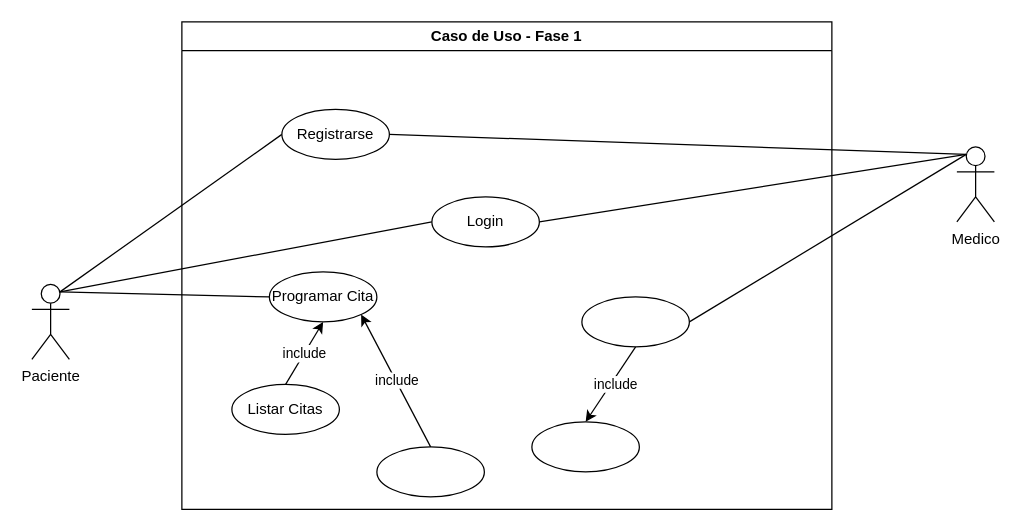
The diagram is 1021 pixels wide and 531 high, and some of its shapes have lost their labels. Each missing label, with the centre of its shape:
"Atender o Cancelar" goes at (635,321).
"Consultar Medico" goes at (430,471).
"Establecer Horario" goes at (585,446).
